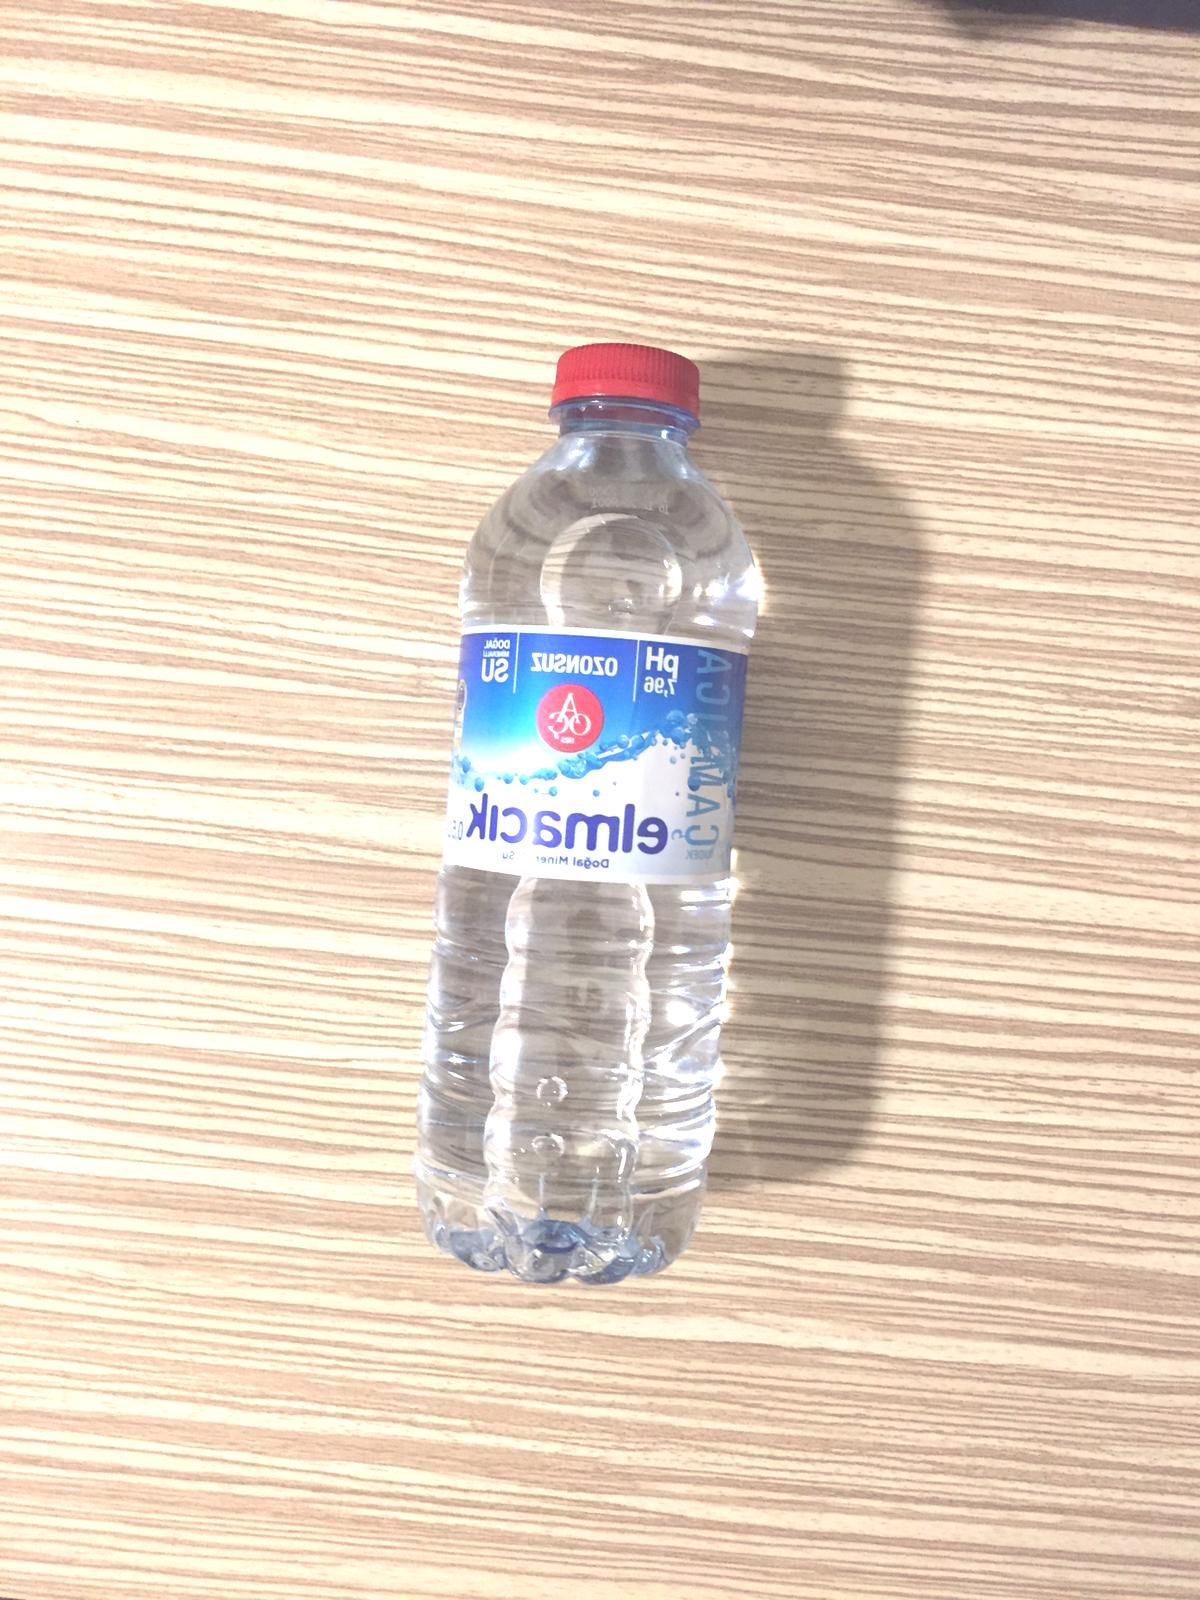bottle: (424, 340, 763, 1291)
